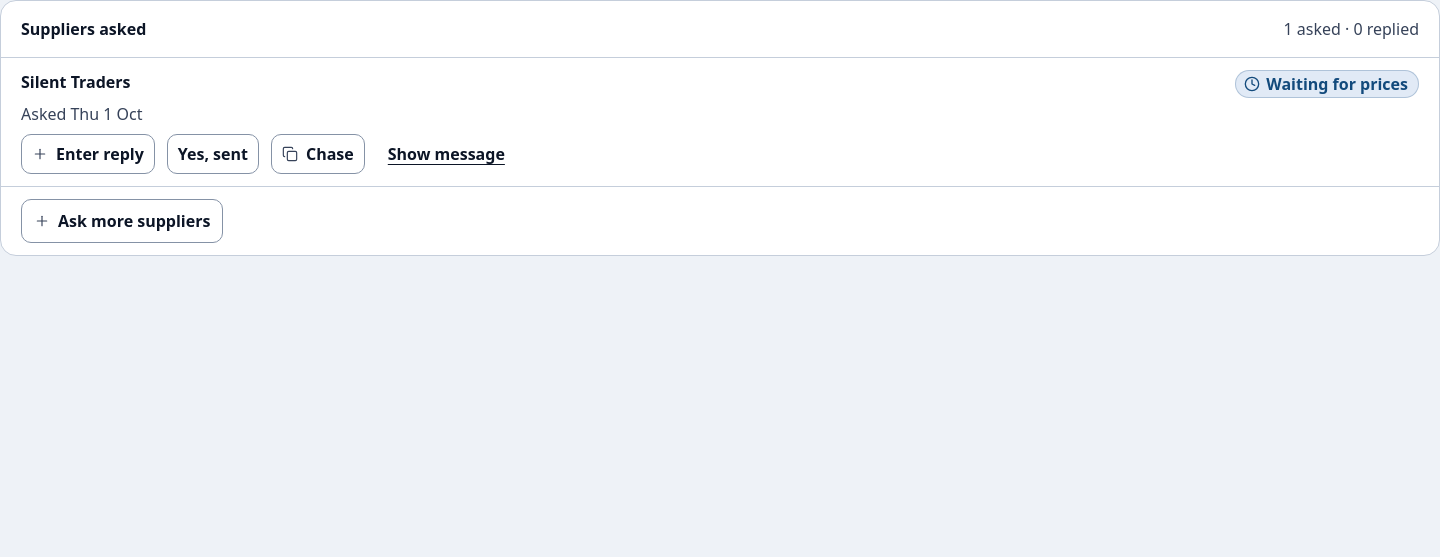
it: SuppliersAsked: each supplier once, with its reply (grade-B R2, R3, R4) › prices in: a 1-tap Chase, and the card only on Show message
The image size is (1440, 557).
Check: the button with aria-label "Chase Silent Traders" is shown, box [271,134,365,174]
Check: the button "Copy and mark chased" is not shown
Click the button with aria-label "Show message, Silent Traders".
click(446, 154)  # box [377,134,516,174]
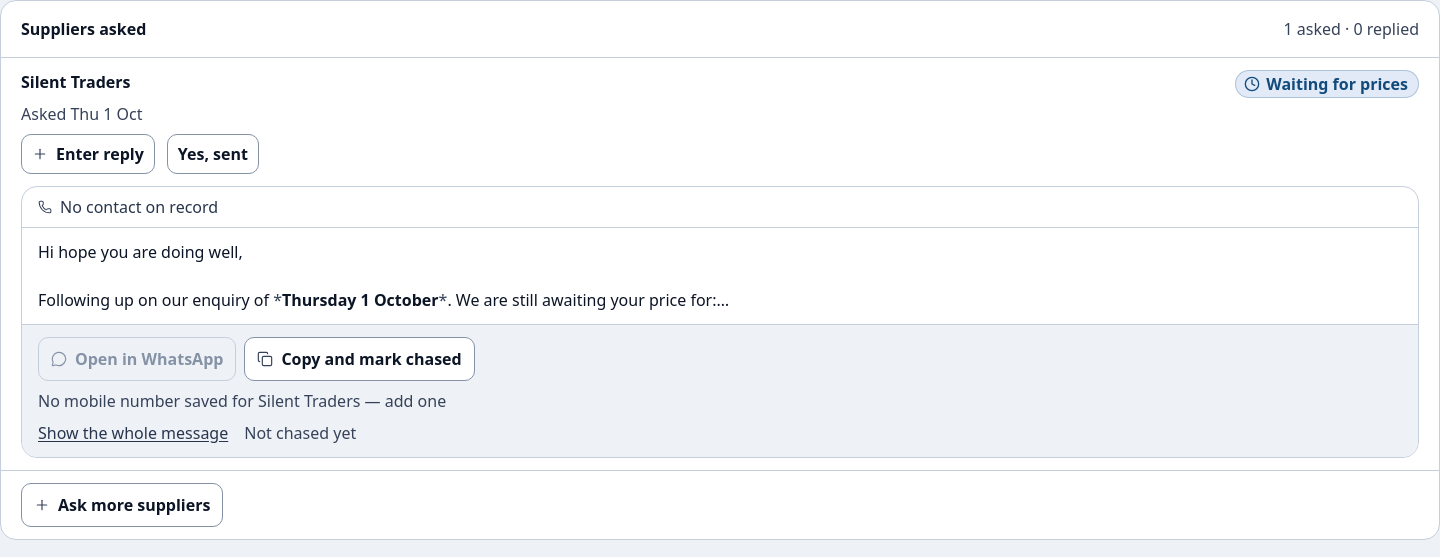
Check: the button "Copy and mark chased" is shown, box [244,337,475,381]
